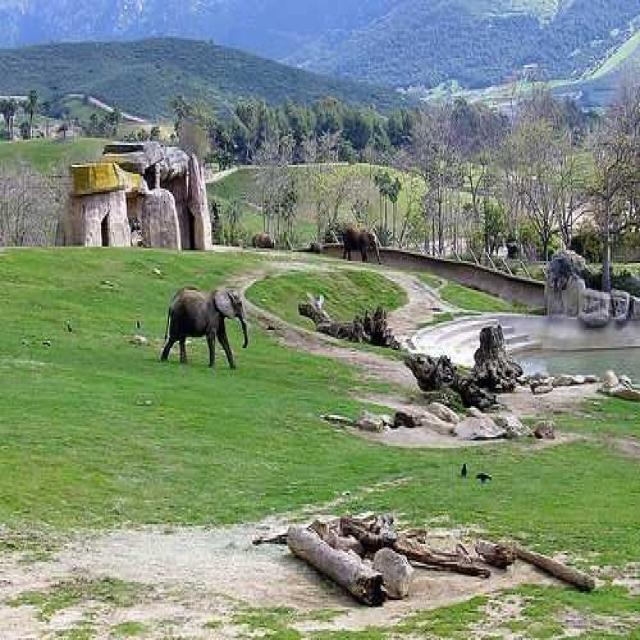Elephant: (159, 285, 248, 370), (341, 225, 380, 263)
